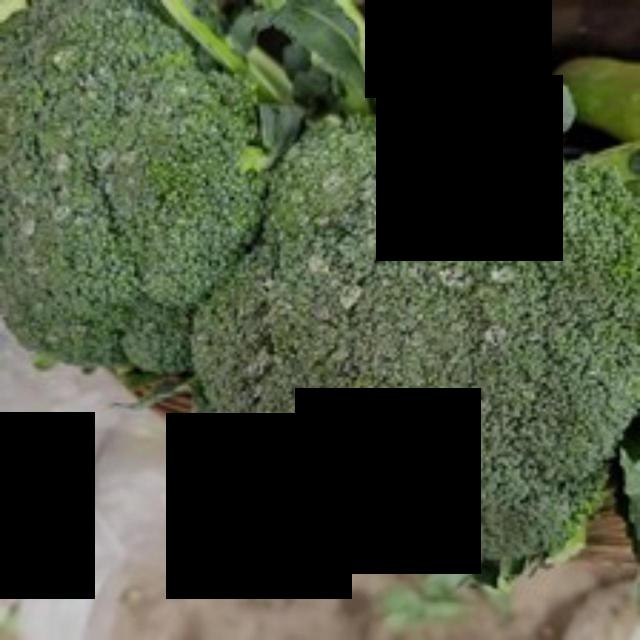broccoli: (200, 91, 637, 554)
